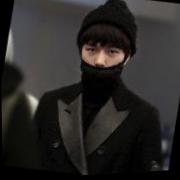WRONG: (76, 34, 130, 93)
